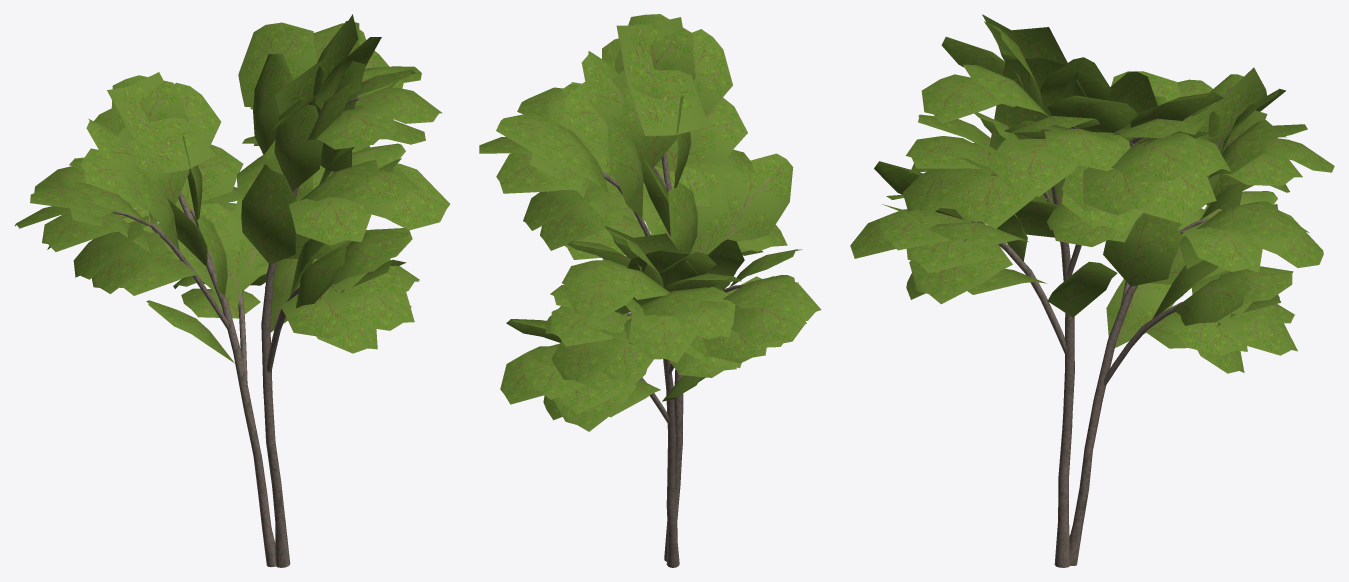
File: tree_2.fbx
3 views of the same model, side by side, from view 1: azimuth 30°, elevation 25°; view 2: azimuth 150°, elevation 25°; view 3: azimuth 270°, elevation 25° (orthographic). The views are drawn at different scales.
Parts seen in each view (by area): view 1: Object001; view 2: Object001; view 3: Object001.
Boxes of the visible parts, box(x1,y1,x2,y2) form: Object001: box(15, 14, 450, 567); Object001: box(479, 14, 821, 567); Object001: box(850, 14, 1334, 567).
Bounding box in the file's own units: 2058 × 3033 × 2322.
